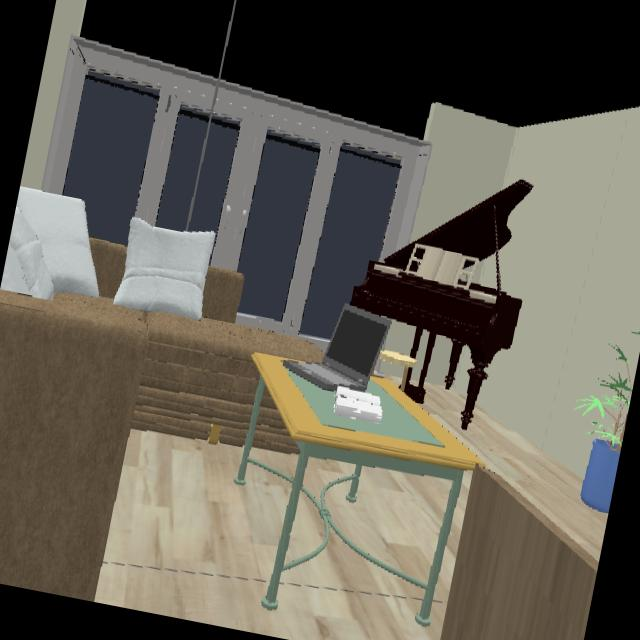book: (333, 386, 381, 424)
laptop: (289, 307, 392, 394)
pillow: (0, 187, 98, 302), (113, 219, 217, 322)
sofa: (0, 239, 323, 602), (442, 471, 596, 640)
table: (255, 358, 478, 479)
